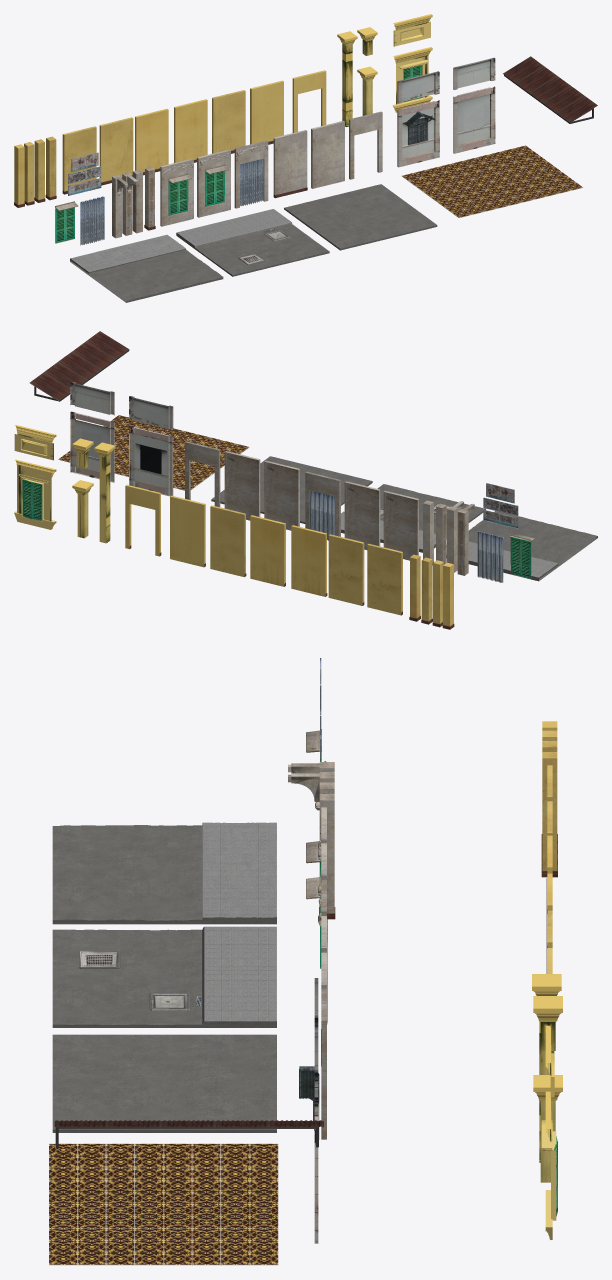
File: modularkit_vietnam.glb
3 views of the same model, one above another, from view 1: azimuth 30°, elevation 25°; view 2: azimuth 150°, elevation 25°; view 3: azimuth 270°, elevation 25° (orthographic). The views are drawn at different scales.
Visible parts, largest first — view 1: Object_100_material_0, GroundPiece_concrete street_0_concrete_street_0_concrete_str, GroundPiece.002_concrete street_0_concrete_street_0_concrete, GroundPiece.001_concrete street_0_concrete_street_0_concrete, Object_49_Material.002_0, IMG_6263, IMG_6263.001, WallLower.002_old concrete wall_0_old_concrete_wall_0_old_co, Pillar.002_old concrete wall_0_old_concrete_wall_0_old_concr, Pillar.002_old concrete wall_0.004_old_concrete_wall.004_0_o, Pillar.002_old concrete wall_0.002_old_concrete_wall.002_0_o, Pillar.002_old concrete wall_0.001_old_concrete_wall.003_0_o (+29 smaller); view 2: Object_100_material_0, GroundPiece.002_concrete street_0_concrete_street_0_concrete, Object_49_Material.002_0, IMG_6263, Pillar.002_old concrete wall_0.004_old_concrete_wall.004_0_o, Pillar.002_old concrete wall_0.002_old_concrete_wall.002_0_o, Pillar.002_old concrete wall_0.006_old_concrete_wall.004_0_o, Pillar.002_old concrete wall_0.005_old_concrete_wall.003_0_o, Pillar.002_old concrete wall_0.001_old_concrete_wall.003_0_o, Pillar.002_old concrete wall_0.003_old_concrete_wall.001_0_o, WallLower.002_old concrete wall_0_old_concrete_wall_0_old_co, WallLower_old concrete wall_0_old_concrete_wall_0_old_concre (+28 smaller); view 3: Object_100_material_0, GroundPiece_concrete street_0_concrete_street_0_concrete_str, GroundPiece.002_concrete street_0_concrete_street_0_concrete, GroundPiece.001_concrete street_0_concrete_street_0_concrete, SidewalkPiece.002_side walk_0_side_walk_0_side_walk_0_side_w, SidewalkPiece.001_side walk_0_side_walk_0_side_walk_0_side_w, Object_49_Material.002_0, Pillar.001_old concrete wall_0.001_old_concrete_wall.005_0_o, Object_36.002_Material.001_0, Object_34.002_Material.001_0, Pillar.001_old concrete wall_0_old_concrete_wall_0_old_concr, Object_34.003_Material.001_0 (+2 smaller).
Boxes of the visible parts, <box> form: Object_100_material_0: <box>402,145,583,217</box>; GroundPiece_concrete street_0_concrete_street_0_concrete_str: <box>284,184,437,250</box>; GroundPiece.002_concrete street_0_concrete_street_0_concrete: <box>70,249,223,302</box>; GroundPiece.001_concrete street_0_concrete_street_0_concrete: <box>176,224,329,276</box>; Object_49_Material.002_0: <box>503,56,597,123</box>; IMG_6263: <box>397,100,439,167</box>; IMG_6263.001: <box>453,86,495,153</box>; WallLower.002_old concrete wall_0_old_concrete_wall_0_old_co: <box>311,121,344,188</box>; Pillar.002_old concrete wall_0_old_concrete_wall_0_old_concr: <box>273,130,307,194</box>; Pillar.002_old concrete wall_0.004_old_concrete_wall.004_0_o: <box>99,117,133,182</box>; Pillar.002_old concrete wall_0.002_old_concrete_wall.002_0_o: <box>212,90,245,153</box>; Pillar.002_old concrete wall_0.001_old_concrete_wall.003_0_o: <box>174,99,207,162</box>; Object_100_material_0: <box>58,415,249,490</box>; GroundPiece.002_concrete street_0_concrete_street_0_concrete: <box>446,511,597,581</box>; Object_49_Material.002_0: <box>29,331,129,401</box>; IMG_6263: <box>129,426,173,496</box>; Pillar.002_old concrete wall_0.004_old_concrete_wall.004_0_o: <box>328,534,364,605</box>; Pillar.002_old concrete wall_0.002_old_concrete_wall.002_0_o: <box>210,505,245,577</box>; Pillar.002_old concrete wall_0.006_old_concrete_wall.004_0_o: <box>367,544,402,615</box>; Pillar.002_old concrete wall_0.005_old_concrete_wall.003_0_o: <box>291,525,326,596</box>; Pillar.002_old concrete wall_0.001_old_concrete_wall.003_0_o: <box>250,515,285,586</box>; Pillar.002_old concrete wall_0.003_old_concrete_wall.001_0_o: <box>170,495,205,567</box>; WallLower.002_old concrete wall_0_old_concrete_wall_0_old_co: <box>224,451,260,520</box>; WallLower_old concrete wall_0_old_concrete_wall_0_old_concre: <box>344,481,380,549</box>; Object_100_material_0: <box>49,1143,278,1265</box>; GroundPiece_concrete street_0_concrete_street_0_concrete_str: <box>52,1034,276,1132</box>; GroundPiece.002_concrete street_0_concrete_street_0_concrete: <box>52,825,276,924</box>; GroundPiece.001_concrete street_0_concrete_street_0_concrete: <box>52,929,276,1027</box>; SidewalkPiece.002_side walk_0_side_walk_0_side_walk_0_side_w: <box>202,822,276,917</box>; SidewalkPiece.001_side walk_0_side_walk_0_side_walk_0_side_w: <box>204,926,276,1021</box>; Object_49_Material.002_0: <box>54,1120,323,1147</box>; Pillar.001_old concrete wall_0.001_old_concrete_wall.005_0_o: <box>542,752,557,870</box>; Object_36.002_Material.001_0: <box>541,1091,556,1239</box>; Object_34.002_Material.001_0: <box>533,1075,562,1182</box>; Pillar.001_old concrete wall_0_old_concrete_wall_0_old_concr: <box>319,794,334,913</box>; Object_34.003_Material.001_0: <box>533,996,562,1050</box>.
Size of the model in its own units: 58.77 by 10.97 by 27.47.
Materials: 21 (20 with a texture image).
